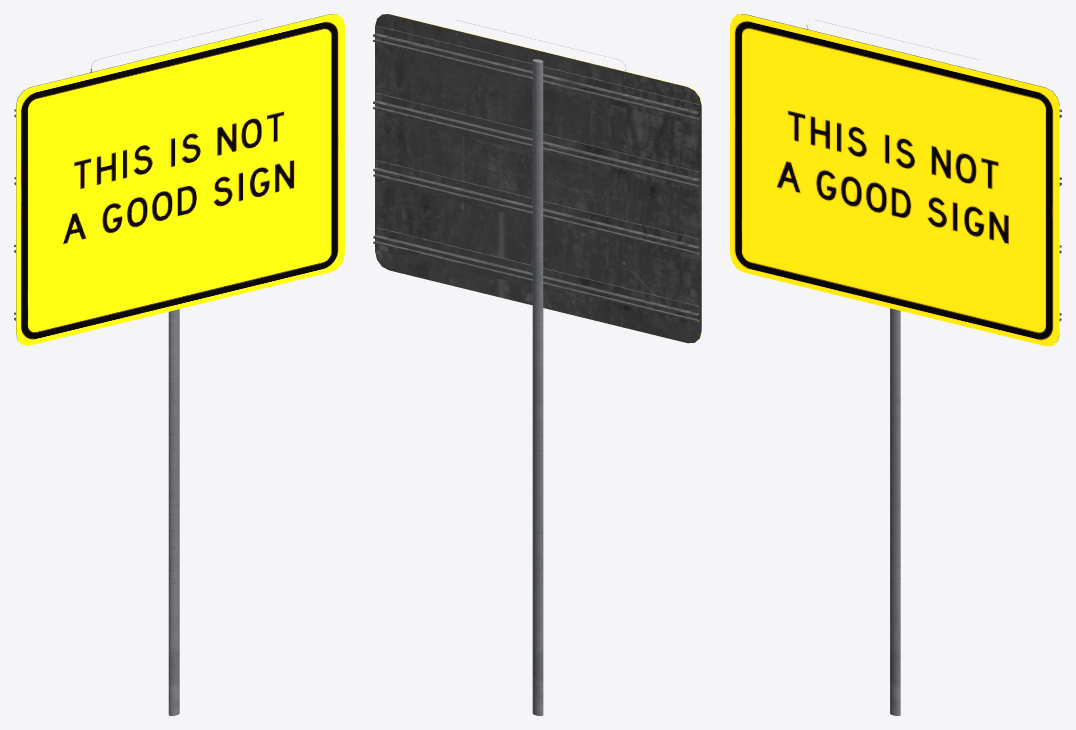
File: not-good-sign.gltf
The picture shows the model from 3 angles, left to right: view 1: azimuth 30°, elevation 25°; view 2: azimuth 150°, elevation 25°; view 3: azimuth 330°, elevation 25°; orthographic projection.
Parts seen in each view (by area): view 1: PoleA_50.8_2800mm_A_.013, PoleA_50.8_2800mm_A_.020; view 2: PoleA_50.8_2800mm_A_.013, PoleA_50.8_2800mm_A_.020; view 3: PoleA_50.8_2800mm_A_.013, PoleA_50.8_2800mm_A_.020.
Part boxes in pixels (<box>): PoleA_50.8_2800mm_A_.013: <box>14,14,344,345</box>; PoleA_50.8_2800mm_A_.020: <box>89,19,260,715</box>; PoleA_50.8_2800mm_A_.013: <box>373,14,701,343</box>; PoleA_50.8_2800mm_A_.020: <box>456,20,626,715</box>; PoleA_50.8_2800mm_A_.013: <box>730,14,1061,346</box>; PoleA_50.8_2800mm_A_.020: <box>806,19,977,715</box>.
Bounding box in the file's own units: 1.1 × 2.15 × 0.0307.
Materials: 6 (6 with a texture image).
